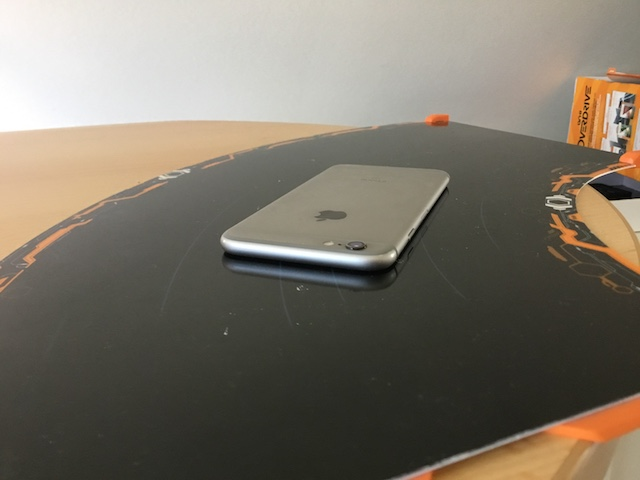phone: (216, 161, 452, 276)
